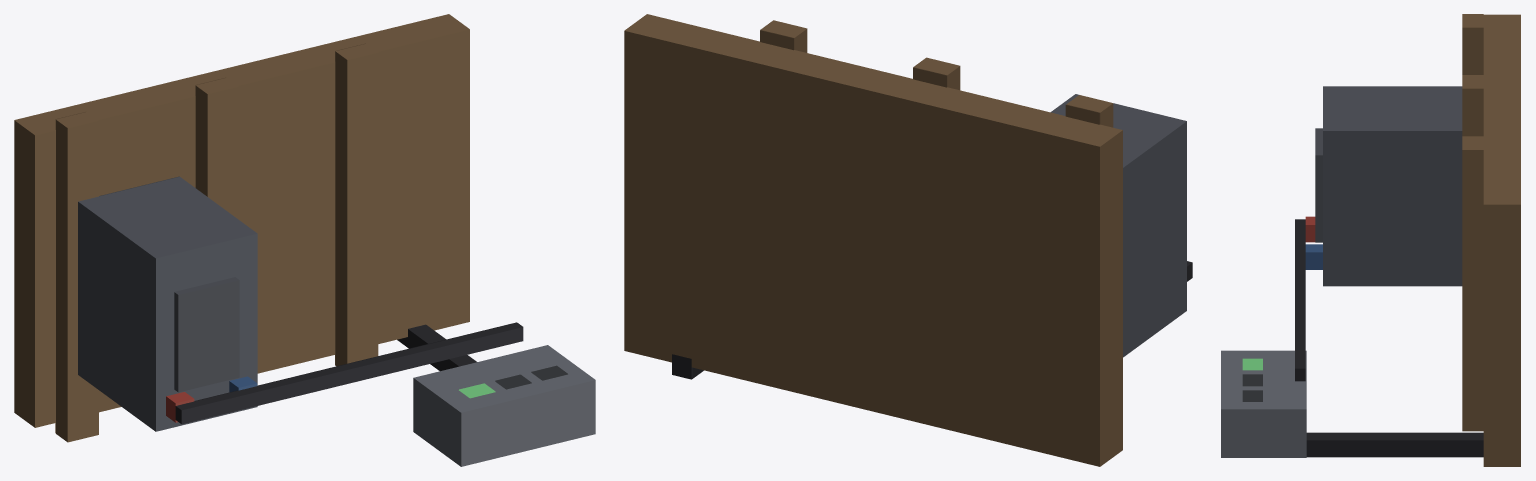
File: bank_ground_makeshift_c1_S.obj
The picture shows the model from 3 angles, left to right: view 1: azimuth 30°, elevation 25°; view 2: azimuth 150°, elevation 25°; view 3: azimuth 270°, elevation 25°; orthographic projection. The views are drawn at different scales.
Visible parts, largest first — view 1: bank_ground_makeshift_c1_S; view 2: bank_ground_makeshift_c1_S; view 3: bank_ground_makeshift_c1_S.
Part boxes in pixels (x1,y1,x2,y2): bank_ground_makeshift_c1_S: (14, 14, 595, 466); bank_ground_makeshift_c1_S: (624, 14, 1192, 466); bank_ground_makeshift_c1_S: (1221, 14, 1520, 466).
Bounding box in the file's own units: 0.84 × 0.58 × 0.5615.
1 material, 1 textured.
